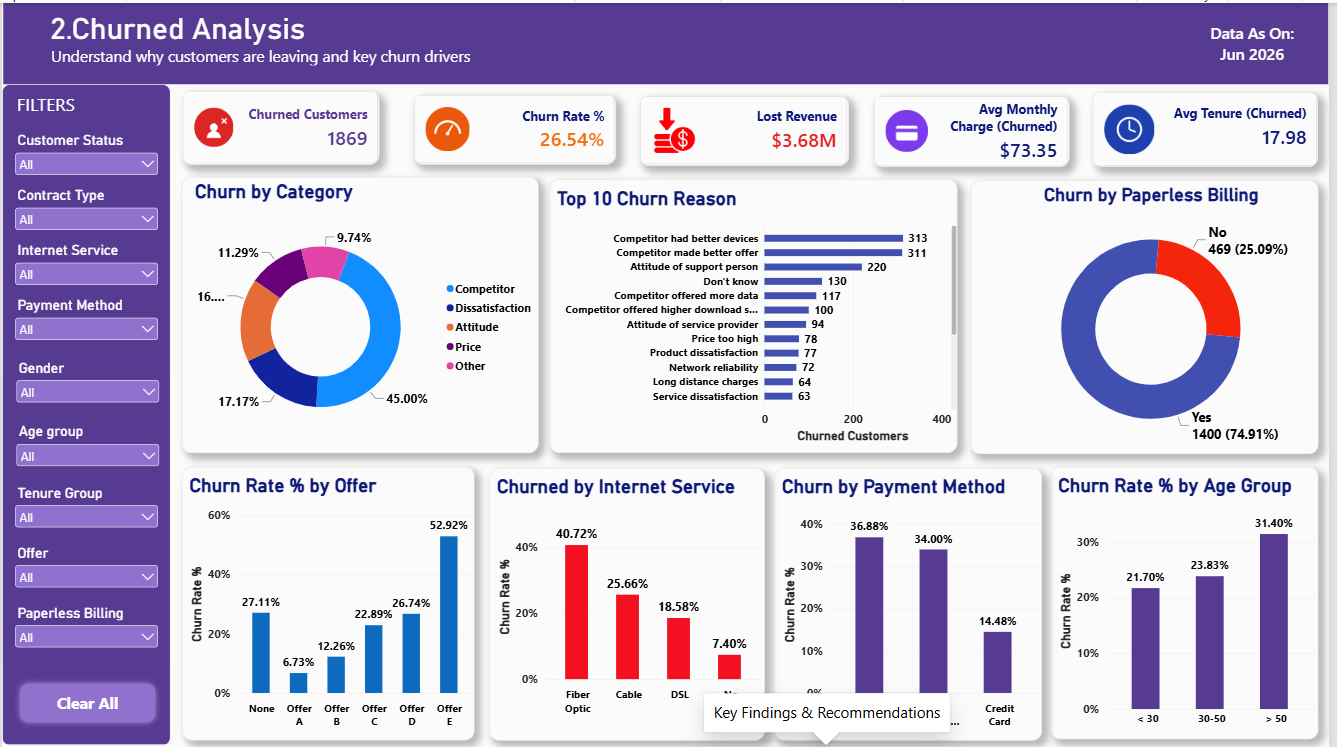

Layout of this report page (visuals, bound fields, positions):
{"tool":"powerbi","page":{"name":"Churned Analysis","canvas":[1920,1080],"ordinal":1},"visuals":[{"type":"shape","title":"FILTERS","box":[0,117.6,244.3,957.3],"z":0},{"type":"shape","box":[1.8,0,1918.2,117.6],"z":1000},{"type":"slicer","fields":{"Values":["telecom_customer_churn.Customer Status"]},"box":[14.6,186.6,215.9,80.5],"z":2000},{"type":"textbox","title":"2.Churned Analysis","box":[0,12.7,508.5,61.5],"z":3000},{"type":"slicer","fields":{"Values":["telecom_customer_churn.Age group"]},"box":[16.3,608,215.9,87.8],"z":4000},{"type":"slicer","fields":{"Values":["telecom_customer_churn.Internet Service"]},"box":[14.5,345.6,215.9,80.5],"z":5000},{"type":"slicer","fields":{"Values":["telecom_customer_churn.Payment Method"]},"box":[14.5,425.3,215.9,80.5],"z":6000},{"type":"slicer","fields":{"Values":["telecom_customer_churn.Gender"]},"box":[16.3,515.8,215.9,80.5],"z":7000},{"type":"slicer","fields":{"Values":["telecom_customer_churn.Contract"]},"box":[14.5,266,215.9,80.5],"z":8000},{"type":"cardVisual","fields":{"Data":["telecom_customer_churn.Data As On"]},"box":[1699,0,221.3,117.1],"z":9000},{"type":"cardVisual","fields":{"Data":["telecom_customer_churn.Lost Revenue"]},"box":[922.1,134.2,302.9,101.6],"z":10000},{"type":"cardVisual","fields":{"Data":["telecom_customer_churn.Avg Monthly Charge (Churned)"]},"box":[1261.3,134.2,283.7,103.5],"z":11000},{"type":"cardVisual","fields":{"Data":["telecom_customer_churn.Avg Tenure (Churned)"]},"box":[1577.9,128.8,327.1,109],"z":12000},{"type":"pieChart","title":"Churn by Paperless Billing ","fields":{"Category":["telecom_customer_churn.Paperless Billing"],"Y":["telecom_customer_churn.Churned Customers"]},"box":[1402.5,257,503.1,396.3],"z":13000},{"type":"clusteredColumnChart","title":"Churned by Internet Service","fields":{"Category":["telecom_customer_churn.Internet Type"],"Y":["telecom_customer_churn.Churn Rate %"]},"box":[705.8,673.2,398.1,394.5],"z":14000},{"type":"clusteredBarChart","title":"Top 10 Churn Reason","fields":{"Y":["telecom_customer_churn.Churned Customers"],"Category":["telecom_customer_churn.Churn Reason"]},"box":[792.2,256,590.4,396.1],"z":15000},{"type":"columnChart","title":"Churn by Payment Method","fields":{"Category":["telecom_customer_churn.Payment Method"],"Y":["telecom_customer_churn.Churn Rate %"]},"box":[1118.4,673.2,387.3,394.5],"z":16000},{"type":"pieChart","title":"Churn by Category","fields":{"Y":["telecom_customer_churn.Churned Customers"],"Category":["telecom_customer_churn.Churn Category"]},"box":[259.7,252.2,515.7,399.8],"z":17000},{"type":"actionButton","title":"fefdg","box":[18.6,978,211.7,72.4],"z":18000},{"type":"slicer","fields":{"Values":["telecom_customer_churn.Tenure Group New"]},"box":[14.5,696.7,215.9,87.8],"z":19000},{"type":"slicer","fields":{"Values":["telecom_customer_churn.Offer"]},"box":[14.8,783.1,215.9,87.8],"z":20000},{"type":"slicer","fields":{"Values":["telecom_customer_churn.Paperless Billing"]},"box":[14.8,870.4,215.9,87.8],"z":21000},{"type":"cardVisual","fields":{"Data":["telecom_customer_churn.Churn Rate %"]},"box":[596.2,132.3,293.3,101.6],"z":22000},{"type":"cardVisual","fields":{"Data":["telecom_customer_churn.Churned Customers"]},"box":[260.7,126.5,285.6,107.3],"z":23000},{"type":"clusteredColumnChart","fields":{"Category":["telecom_customer_churn.Offer"],"Y":["telecom_customer_churn.Churn Rate %"]},"box":[260.6,671.4,423.5,396.3],"z":24000},{"type":"clusteredColumnChart","title":"Churn Rate % by Age Group","fields":{"Y":["telecom_customer_churn.Churn Rate %"],"Category":["telecom_customer_churn.Age group"]},"box":[1518.3,671.4,387.3,394.5],"z":25000}]}

Visuals, with their boxes in screenshot pixels (x1, y1, x2, y2), scaled from the page's 1920x1080 canvas onto the 1337x747 screenshot:
"FILTERS" shape: <bbox>0, 81, 170, 743</bbox>
shape: <bbox>1, 0, 1336, 81</bbox>
slicer - telecom_customer_churn.Customer Status: <bbox>10, 129, 161, 185</bbox>
"2.Churned Analysis" textbox: <bbox>0, 9, 354, 51</bbox>
slicer - telecom_customer_churn.Age group: <bbox>11, 421, 162, 481</bbox>
slicer - telecom_customer_churn.Internet Service: <bbox>10, 239, 160, 295</bbox>
slicer - telecom_customer_churn.Payment Method: <bbox>10, 294, 160, 350</bbox>
slicer - telecom_customer_churn.Gender: <bbox>11, 357, 162, 412</bbox>
slicer - telecom_customer_churn.Contract: <bbox>10, 184, 160, 240</bbox>
cardVisual - telecom_customer_churn.Data As On: <bbox>1183, 0, 1336, 81</bbox>
cardVisual - telecom_customer_churn.Lost Revenue: <bbox>642, 93, 853, 163</bbox>
cardVisual - telecom_customer_churn.Avg Monthly Charge (Churned): <bbox>878, 93, 1076, 164</bbox>
cardVisual - telecom_customer_churn.Avg Tenure (Churned): <bbox>1099, 89, 1327, 164</bbox>
"Churn by Paperless Billing " pieChart: <bbox>977, 178, 1327, 452</bbox>
"Churned by Internet Service" clusteredColumnChart: <bbox>491, 466, 769, 738</bbox>
"Top 10 Churn Reason" clusteredBarChart: <bbox>552, 177, 963, 451</bbox>
"Churn by Payment Method" columnChart: <bbox>779, 466, 1049, 738</bbox>
"Churn by Category" pieChart: <bbox>181, 174, 540, 451</bbox>
"fefdg" actionButton: <bbox>13, 676, 160, 727</bbox>
slicer - telecom_customer_churn.Tenure Group New: <bbox>10, 482, 160, 543</bbox>
slicer - telecom_customer_churn.Offer: <bbox>10, 542, 161, 602</bbox>
slicer - telecom_customer_churn.Paperless Billing: <bbox>10, 602, 161, 663</bbox>
cardVisual - telecom_customer_churn.Churn Rate %: <bbox>415, 92, 619, 162</bbox>
cardVisual - telecom_customer_churn.Churned Customers: <bbox>182, 87, 380, 162</bbox>
clusteredColumnChart - telecom_customer_churn.Offer x telecom_customer_churn.Churn Rate %: <bbox>181, 464, 476, 738</bbox>
"Churn Rate % by Age Group" clusteredColumnChart: <bbox>1057, 464, 1327, 737</bbox>
